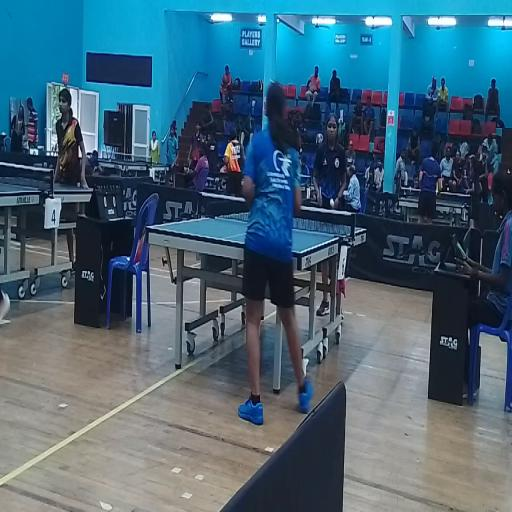ball: (330, 197, 334, 207)
